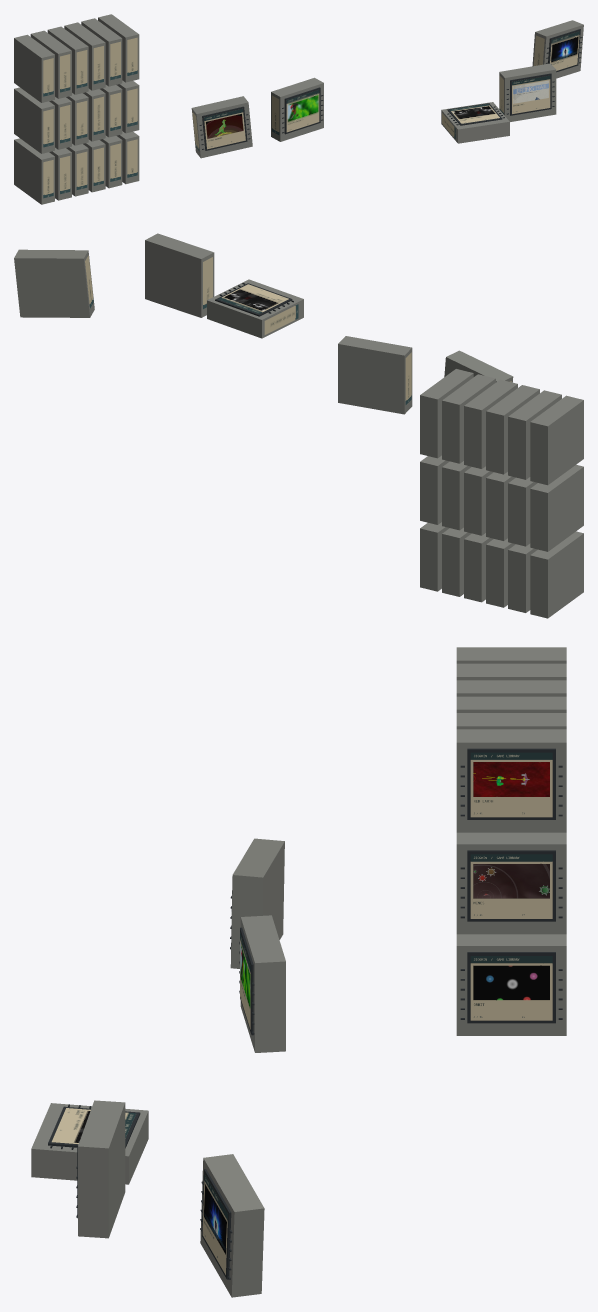
The model's file is cartridges.glb.
The picture shows the model from 3 angles, top to bottom: view 1: azimuth 30°, elevation 25°; view 2: azimuth 150°, elevation 25°; view 3: azimuth 270°, elevation 25°; orthographic projection. The views are drawn at different scales.
Visible parts, largest first — view 1: Cartridge • shell.017, Cartridge • shell.011, Cartridge • shell.005, Cartridge • shell, Cartridge • shell.003, Cartridge • Effing Meteors, Cartridge • shell.002, Cartridge • shell.001, Cartridge • Effing Hail, Cartridge • Platform Racing 3, Cartridge • shell.004, Cartridge • shell.022 (+39 smaller); view 2: Cartridge • shell.004, Cartridge • shell.001, Cartridge • shell.003, Cartridge • shell.017, Cartridge • shell.011, Cartridge • shell.005, Cartridge • shell.018, Cartridge • shell.022, Cartridge • shell.020, Cartridge • shell.021, Cartridge • shell.019, Cartridge • shell.002 (+13 smaller); view 3: Cartridge • shell.003, Cartridge • Red Earth, Cartridge • Orbit, Cartridge • Mines, Cartridge • shell.004, Cartridge • shell.022, Cartridge • shell.016, Cartridge • shell.010, Cartridge • shell.001, Cartridge • shell, Cartridge • shell.002, Cartridge • shell.018 (+9 smaller).
Part boxes in pixels (x1,y1,x2,y2): Cartridge • shell.017: (14, 34, 54, 102); Cartridge • shell.011: (14, 87, 54, 153); Cartridge • shell.005: (14, 138, 54, 204); Cartridge • shell: (191, 96, 252, 158); Cartridge • shell.003: (499, 63, 556, 121); Cartridge • Effing Meteors: (204, 108, 245, 149); Cartridge • shell.002: (441, 102, 509, 143); Cartridge • shell.001: (271, 77, 323, 141); Cartridge • Effing Hail: (512, 75, 550, 114); Cartridge • Platform Racing 3: (286, 90, 319, 132); Cartridge • shell.004: (532, 20, 583, 78); Cartridge • shell.022: (98, 14, 139, 82); Cartridge • shell.004: (14, 249, 94, 317); Cartridge • shell.001: (338, 336, 412, 414); Cartridge • shell.003: (145, 233, 214, 317); Cartridge • shell.017: (530, 395, 583, 485); Cartridge • shell.011: (530, 464, 583, 551); Cartridge • shell.005: (530, 531, 583, 618); Cartridge • shell.018: (508, 390, 561, 479); Cartridge • shell.022: (420, 369, 473, 458); Cartridge • shell.020: (464, 379, 517, 468); Cartridge • shell.021: (442, 374, 495, 463); Cartridge • shell.019: (486, 385, 539, 474); Cartridge • shell.002: (207, 279, 303, 338); Cartridge • shell.003: (78, 1100, 125, 1238); Cartridge • Red Earth: (470, 752, 552, 817); Cartridge • Orbit: (470, 956, 552, 1020); Cartridge • Mines: (470, 854, 552, 918); Cartridge • shell.004: (200, 1154, 264, 1297); Cartridge • shell.022: (456, 729, 566, 832); Cartridge • shell.016: (456, 832, 566, 934); Cartridge • shell.010: (456, 934, 566, 1035); Cartridge • shell.001: (240, 915, 285, 1052); Cartridge • shell: (230, 838, 284, 968); Cartridge • shell.002: (31, 1103, 148, 1184); Cartridge • shell.018: (456, 663, 566, 680).
Size of the model in its own units: 5.21 by 1.5 by 2.48.
49 materials, 46 textured.
